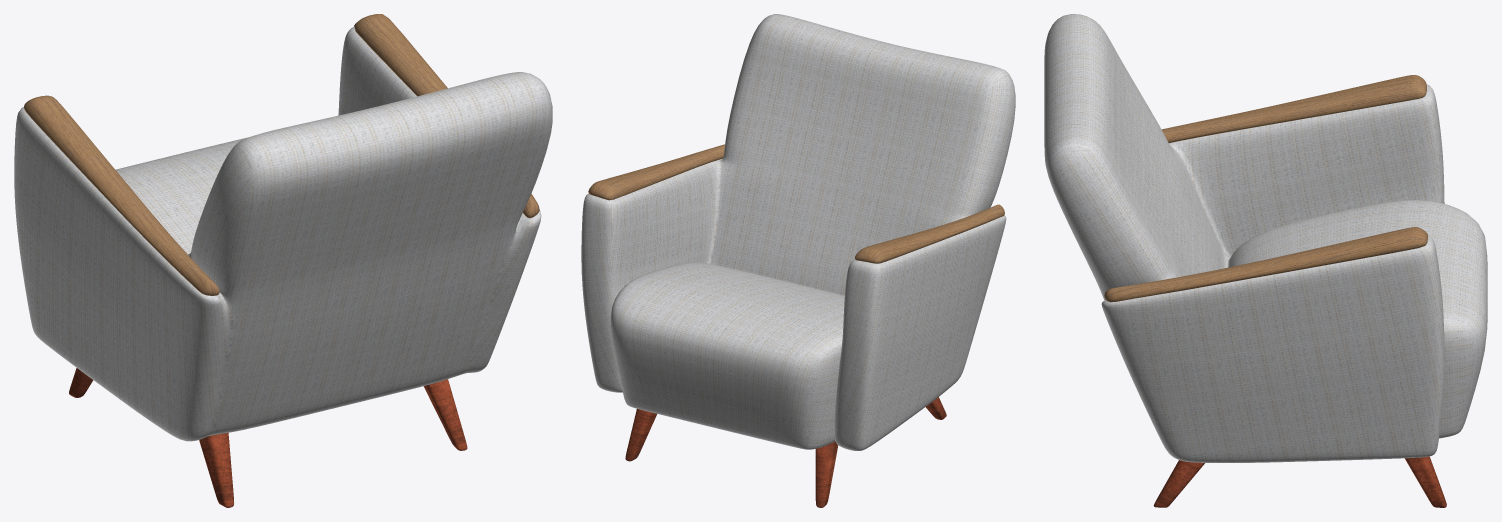
File: 1_White Sofa Variant.fbx
The picture shows the model from 3 angles, left to right: view 1: azimuth 30°, elevation 25°; view 2: azimuth 150°, elevation 25°; view 3: azimuth 270°, elevation 25°; orthographic projection. The views are drawn at different scales.
Parts seen in each view (by area): view 1: Body, Arm_1, Arm_2, Foot_2_1_001, Foot_2_1; view 2: Body, Arm_2, Arm_1, Foot_1_1, Foot_1_1_001; view 3: Body, Arm_2, Arm_1, Foot_1_1_001, Foot_2_1.
Boxes of the visible parts, left/top/right/bottom form: Body: left=14, top=26, right=552, bottom=441; Arm_1: left=24, top=95, right=219, bottom=295; Arm_2: left=354, top=14, right=539, bottom=218; Foot_2_1_001: left=199, top=432, right=233, bottom=507; Foot_2_1: left=423, top=379, right=467, bottom=450; Body: left=581, top=14, right=1015, bottom=450; Arm_2: left=588, top=144, right=724, bottom=200; Arm_1: left=855, top=204, right=1004, bottom=263; Foot_1_1: left=815, top=441, right=838, bottom=507; Foot_1_1_001: left=625, top=409, right=656, bottom=461; Body: left=1044, top=14, right=1487, bottom=462; Arm_2: left=1104, top=227, right=1427, bottom=302; Arm_1: left=1161, top=75, right=1426, bottom=142; Foot_1_1_001: left=1405, top=456, right=1446, bottom=507; Foot_2_1: left=1153, top=460, right=1204, bottom=507.
Bounding box in the file's own units: 75.03 × 77.74 × 83.03.
